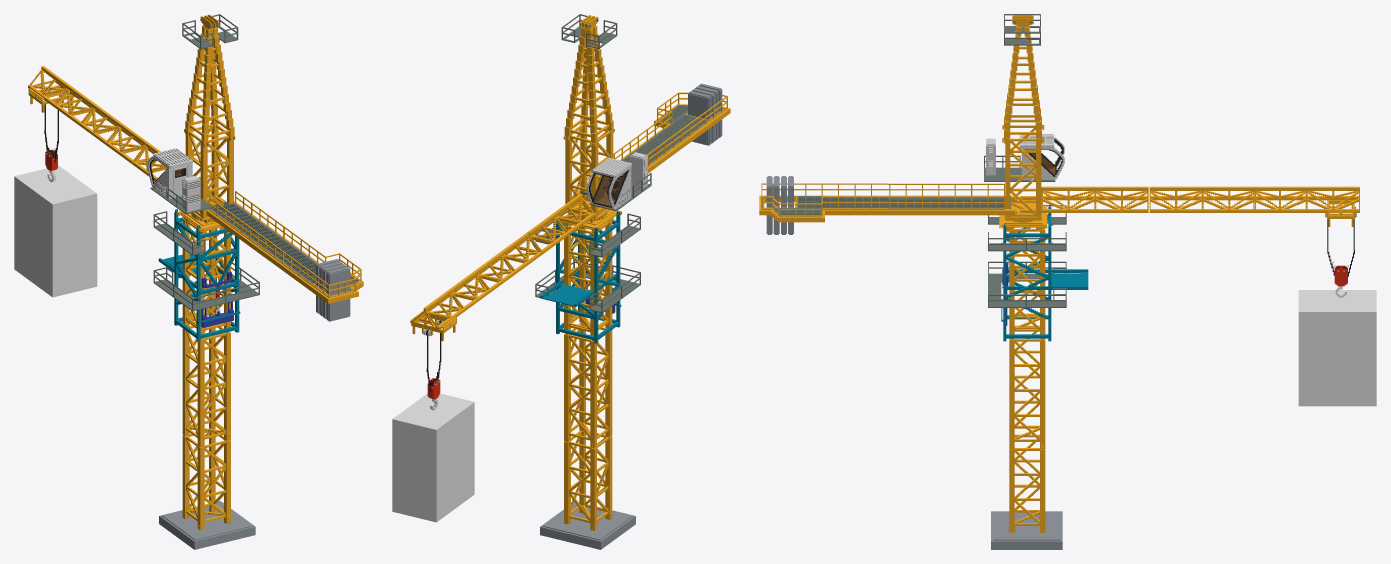
Rendered from crane.6e67bb0b.fbx.
3 views of the same model, side by side, from view 1: azimuth 30°, elevation 25°; view 2: azimuth 150°, elevation 25°; view 3: azimuth 270°, elevation 25° (orthographic).
Visible parts, largest first — view 1: thing, basic_2, basic_0, room, basic_1, roof, back_1, front, back_0, arm; view 2: thing, basic_2, basic_0, room, front, basic_1, roof, back_1, back_0, arm; view 3: thing, basic_2, front, room, basic_0, back_1, back_0, roof, basic_1.
Part boxes in pixels (bbox=[...]): thing: bbox=[14, 165, 97, 297]; basic_2: bbox=[153, 198, 259, 341]; basic_0: bbox=[159, 429, 255, 549]; room: bbox=[147, 121, 235, 233]; basic_1: bbox=[182, 322, 230, 447]; roof: bbox=[182, 14, 238, 143]; back_1: bbox=[264, 233, 363, 321]; front: bbox=[28, 66, 224, 202]; back_0: bbox=[206, 191, 294, 256]; arm: bbox=[28, 85, 74, 143]; thing: bbox=[392, 393, 474, 522]; basic_2: bbox=[535, 211, 640, 343]; basic_0: bbox=[540, 430, 635, 549]; room: bbox=[560, 121, 651, 231]; front: bbox=[410, 193, 604, 329]; basic_1: bbox=[564, 322, 612, 448]; roof: bbox=[561, 14, 617, 142]; back_1: bbox=[637, 83, 730, 158]; back_0: bbox=[575, 135, 667, 196]; arm: bbox=[411, 310, 456, 370]; thing: bbox=[1298, 290, 1376, 406]; basic_2: bbox=[988, 204, 1088, 341]; front: bbox=[1019, 186, 1359, 212]; room: bbox=[984, 124, 1064, 231]; basic_0: bbox=[991, 434, 1062, 549]; back_1: bbox=[759, 176, 888, 234]; back_0: bbox=[888, 183, 1017, 215]; roof: bbox=[1004, 14, 1041, 139]; basic_1: bbox=[1009, 325, 1045, 448].
Bounding box in the file's own units: 34.25 × 220 × 238.
4 materials, 4 textured.
